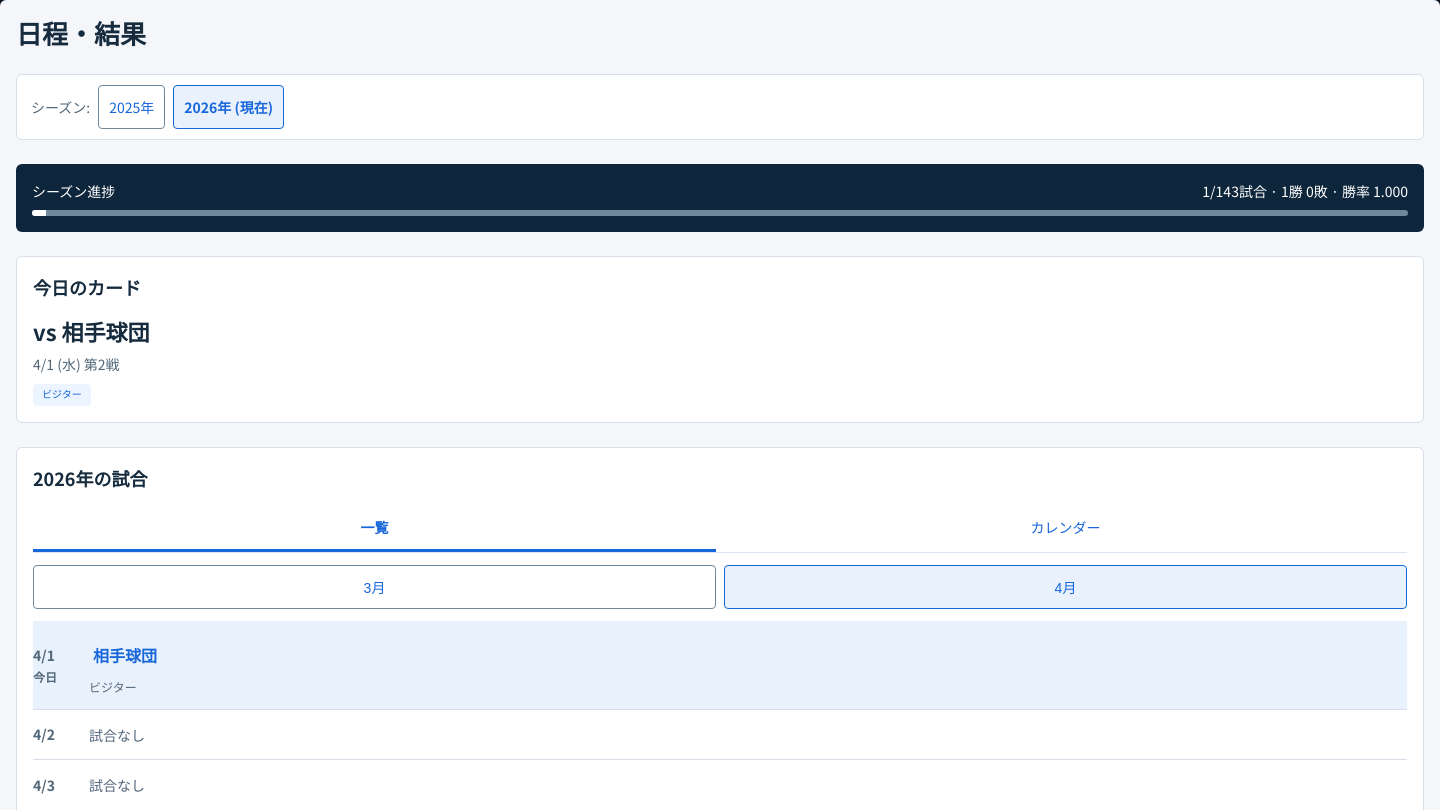
Test: opens an archived opponent-only box score instead of hiding its player rows
Click the button "2025年". click: (132, 107)
box: left=98, top=85, right=165, bottom=129
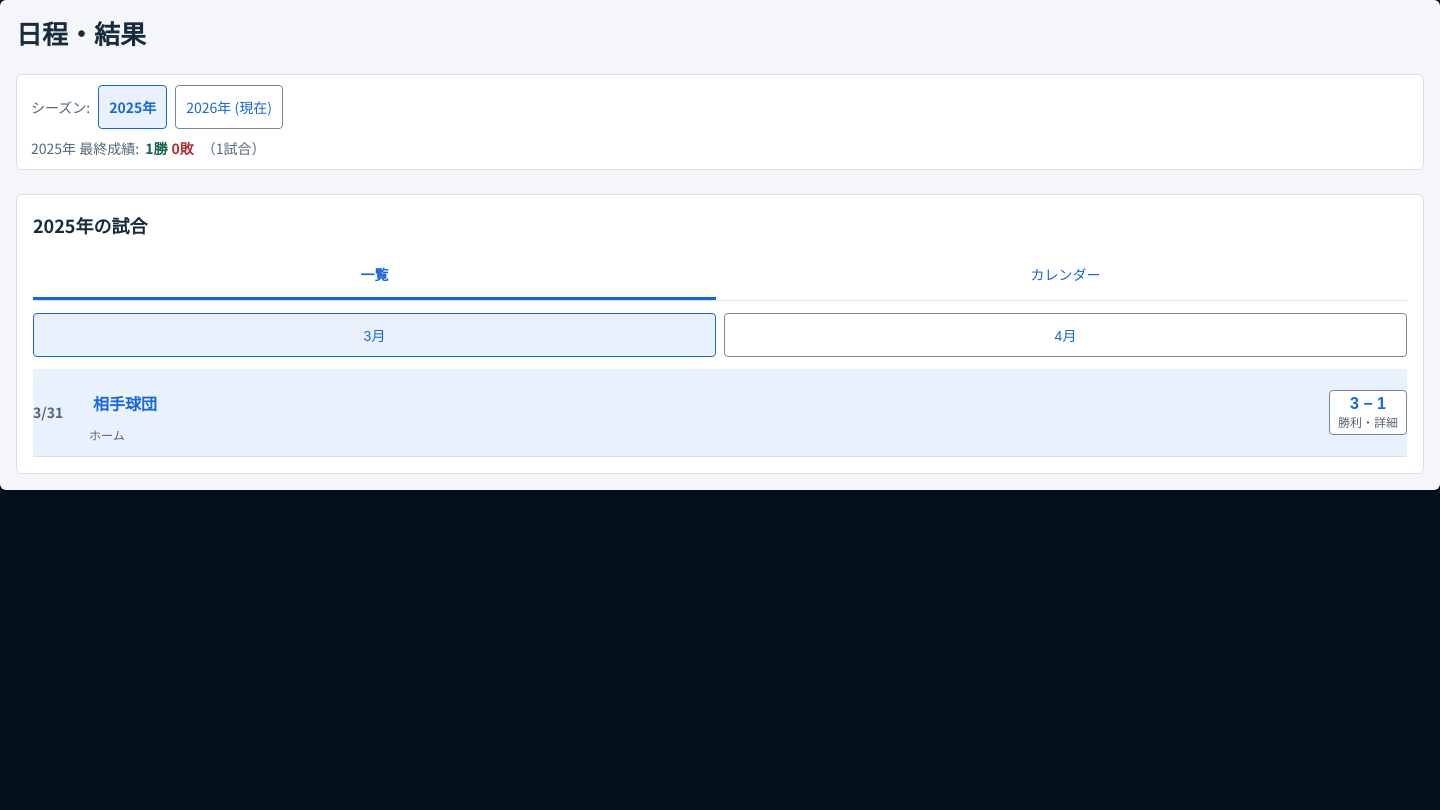
Click the button "3 − 1 勝利・詳細". click: (1368, 413)
box: left=1329, top=390, right=1407, bottom=435
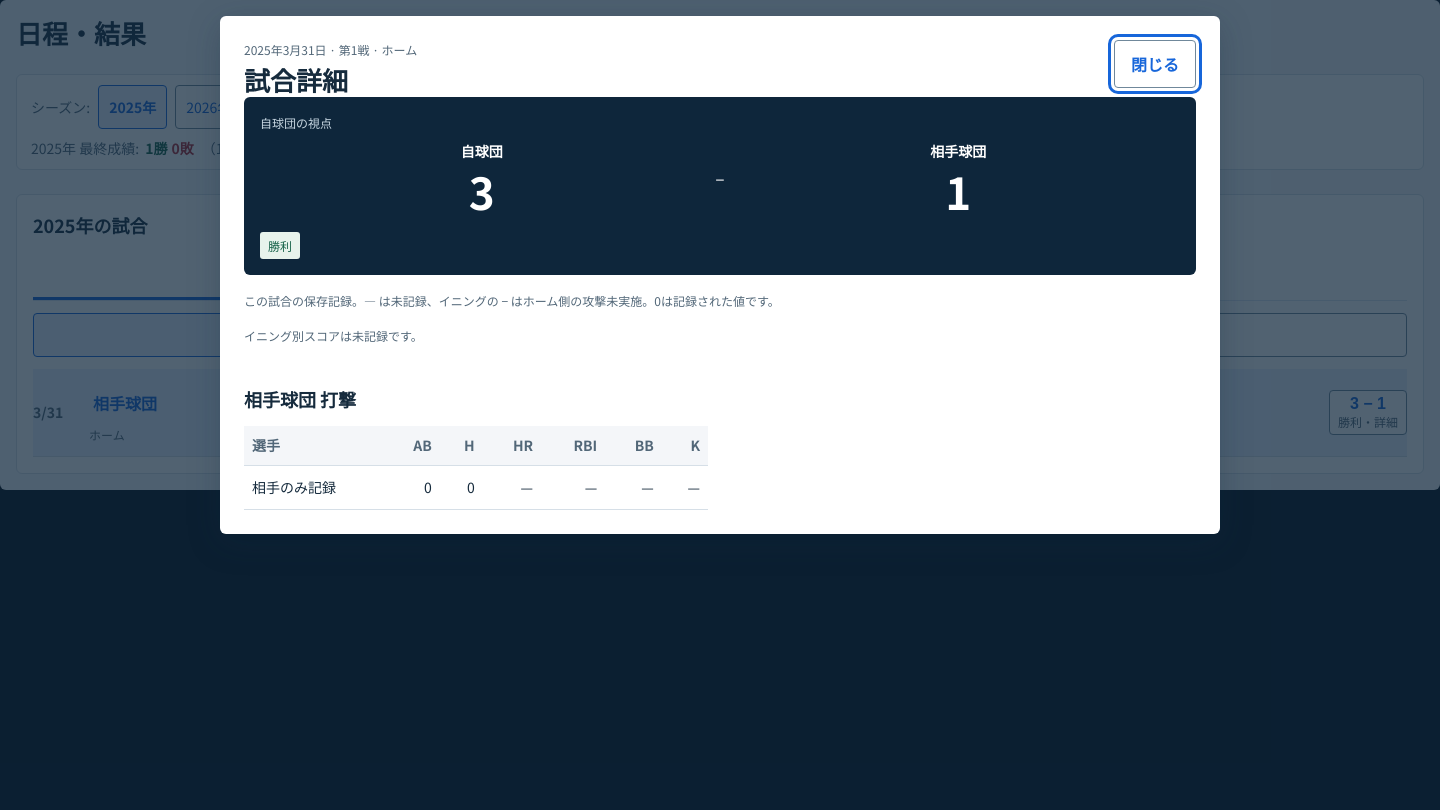
Now the dialog shows "相手のみ記録", box left=252, top=477, right=336, bottom=497
